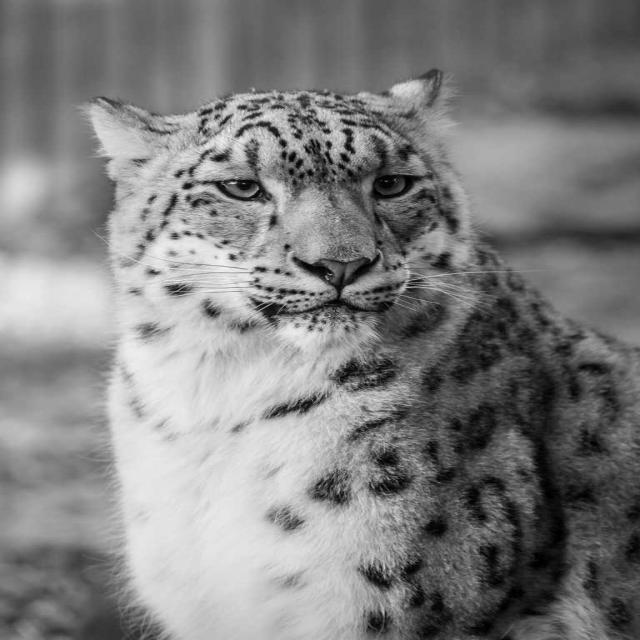Leopard: (80, 68, 638, 638)
